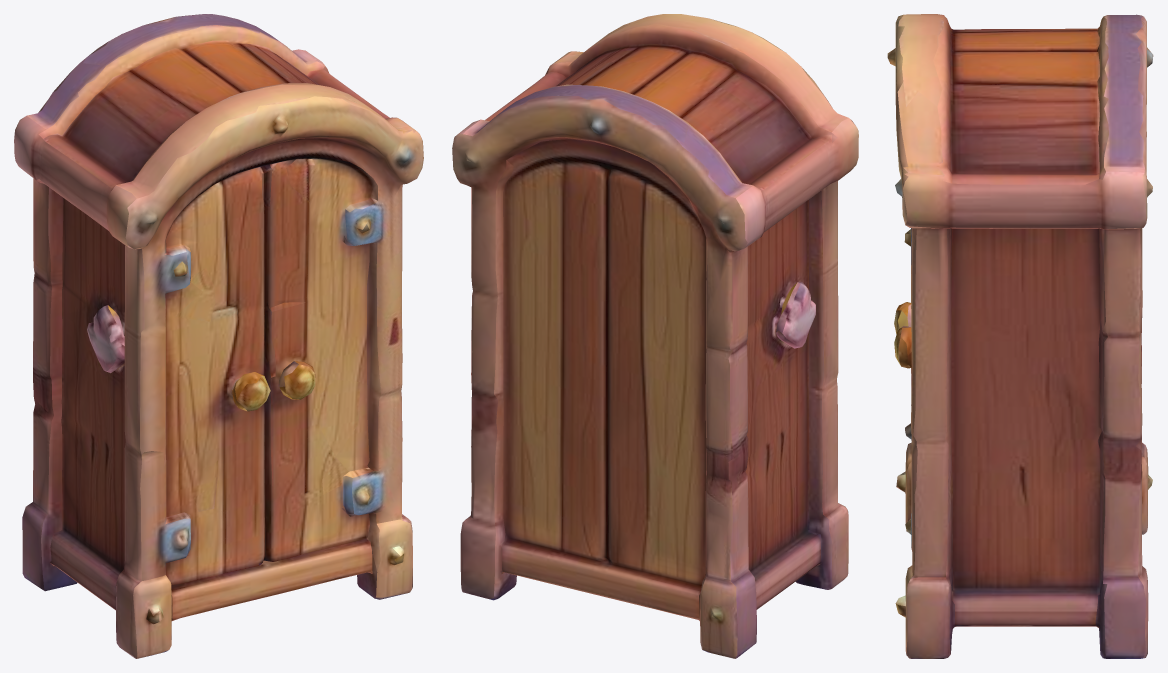
File: wardrobe.glb
3 renders of one model, left to right at view 1: azimuth 30°, elevation 25°; view 2: azimuth 150°, elevation 25°; view 3: azimuth 270°, elevation 25°, orthographic. The views are drawn at different scales.
Parts seen in each view (by area): view 1: wardrobe_s41; view 2: wardrobe_s41; view 3: wardrobe_s41.
Part boxes in pixels (<box>): wardrobe_s41: <box>14,14,423,658</box>; wardrobe_s41: <box>452,14,858,658</box>; wardrobe_s41: <box>887,14,1153,658</box>.
Size of the model in its own units: 0.5933 by 1 by 0.4333.
Materials: 1 (1 with a texture image).
